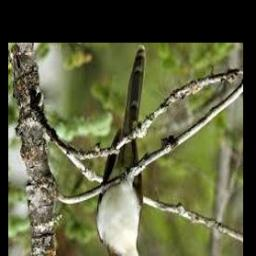Cuckoo: (95, 46, 146, 256)
